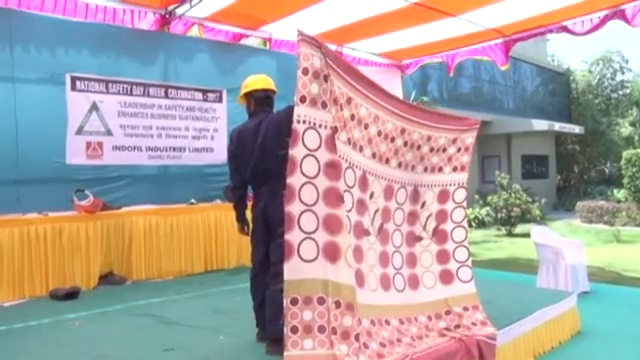helmet: (237, 73, 277, 105)
helmet_on: (235, 73, 277, 116)
person: (225, 73, 294, 354)
